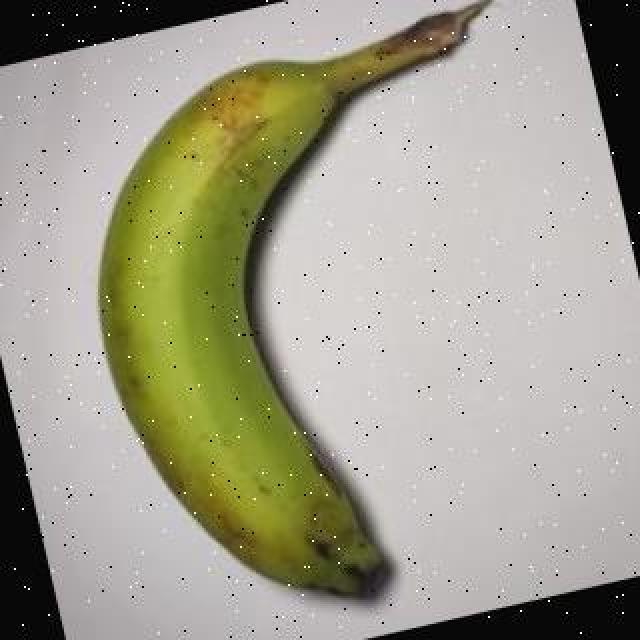Unripe: (96, 6, 489, 601)
